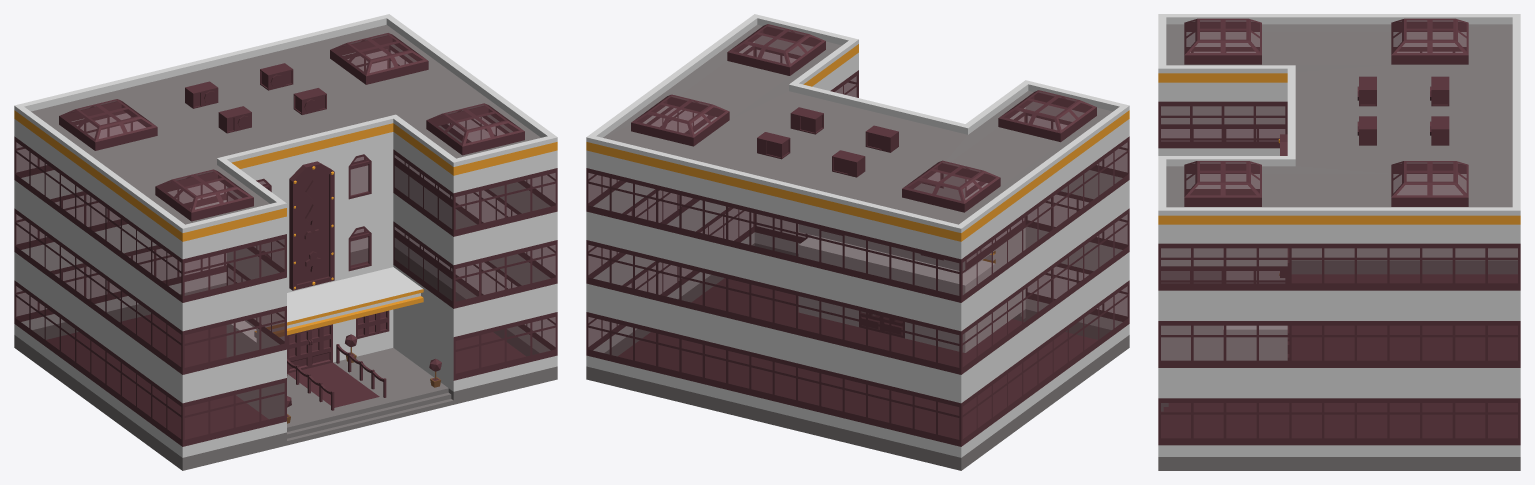
The model's file is building-casino.fbx.
3 views of the same model, side by side, from view 1: azimuth 30°, elevation 25°; view 2: azimuth 150°, elevation 25°; view 3: azimuth 270°, elevation 25° (orthographic). The views are drawn at different scales.
Parts seen in each view (by area): view 1: building-casino; view 2: building-casino; view 3: building-casino.
Part boxes in pixels (x1,y1,x2,y2): building-casino: (14, 14, 557, 470); building-casino: (586, 14, 1129, 470); building-casino: (1158, 14, 1520, 470).
Bounding box in the file's own units: 18 × 11.6 × 14.
